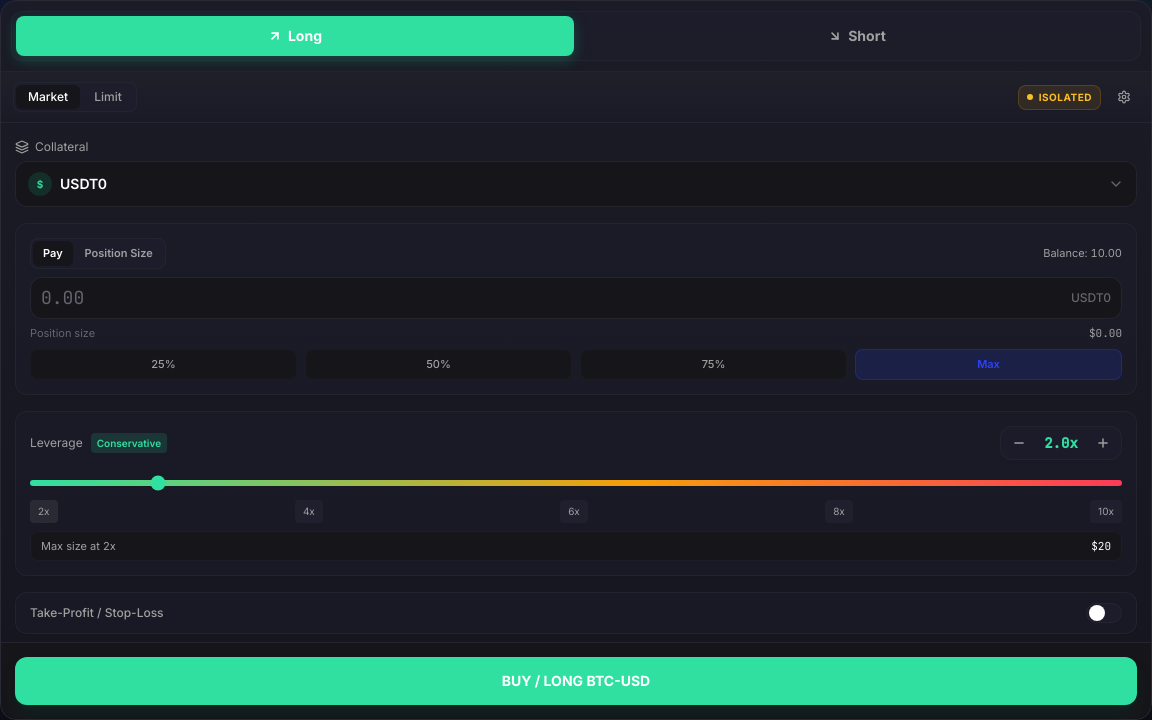
Scenario: TradingForm order entry › flags insufficient balance
This screenshot has width=1152, height=720.
In the number field with test id "margin-input": (552,298) [41,284,1063,312], type "1000"
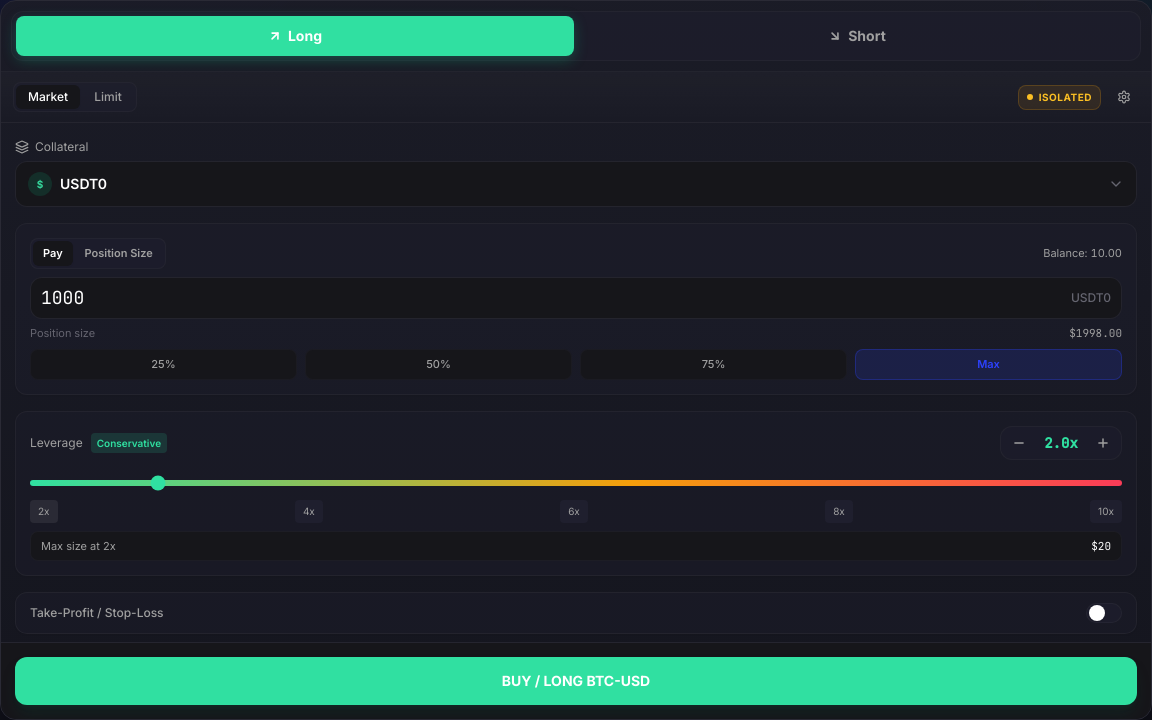
Click the button with test id "trade-button": (576,681) [15,657,1137,705]
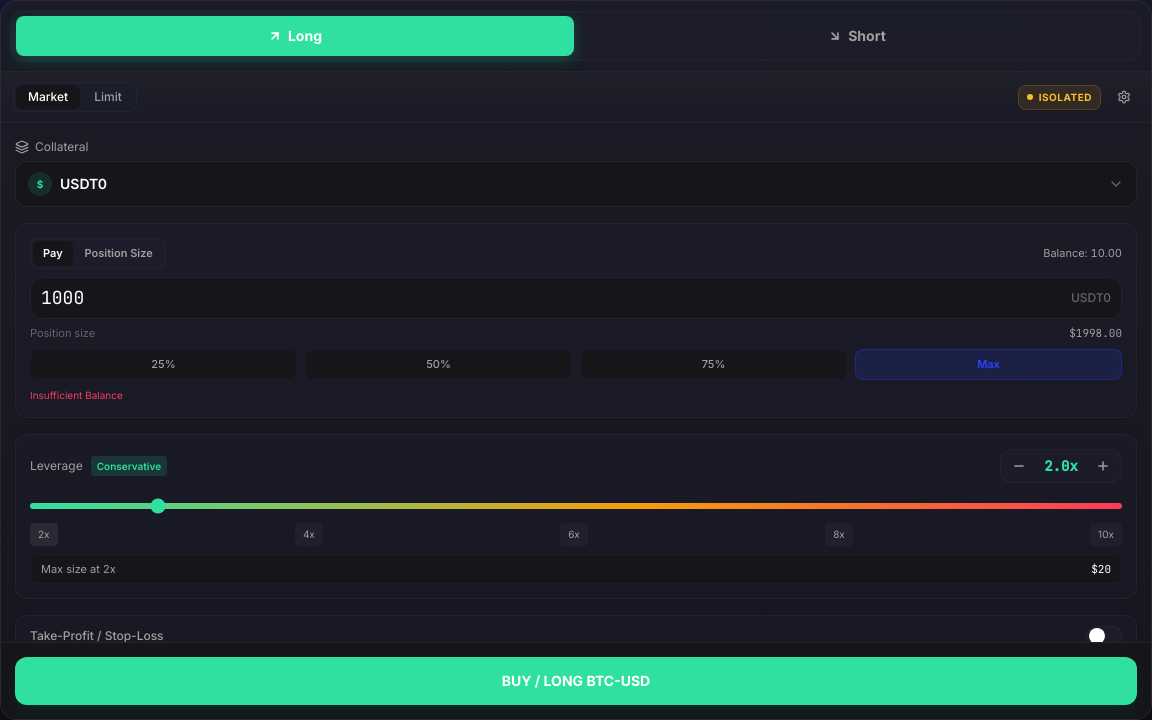
Check: the text "Insufficient Balance" is shown, box [30,388,123,400]
